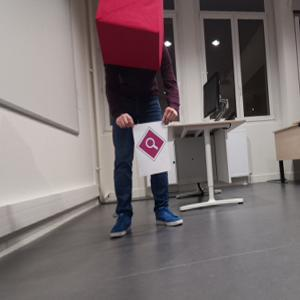search: (137, 127, 166, 160)
